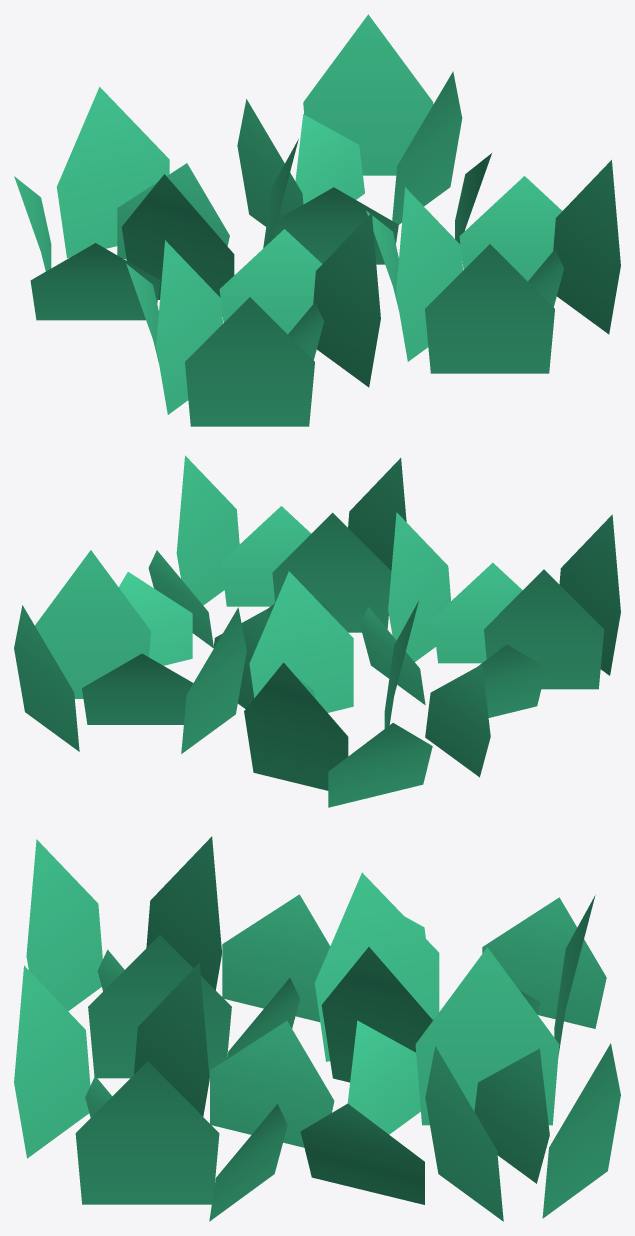
The model's file is Grass-uEgE0AfnPF.glb.
3 renders of one model, top to bottom at view 1: azimuth 30°, elevation 25°; view 2: azimuth 150°, elevation 25°; view 3: azimuth 270°, elevation 25°, orthographic. The views are drawn at different scales.
Visible parts, largest first — view 1: grassLarge; view 2: grassLarge; view 3: grassLarge.
Part boxes in pixels (x1=…): grassLarge: x1=14, y1=14, x2=620, y2=426; grassLarge: x1=14, y1=455, x2=620, y2=807; grassLarge: x1=14, y1=836, x2=620, y2=1221.
Bounding box in the file's own units: 0.4759 × 0.1425 × 0.4873.
